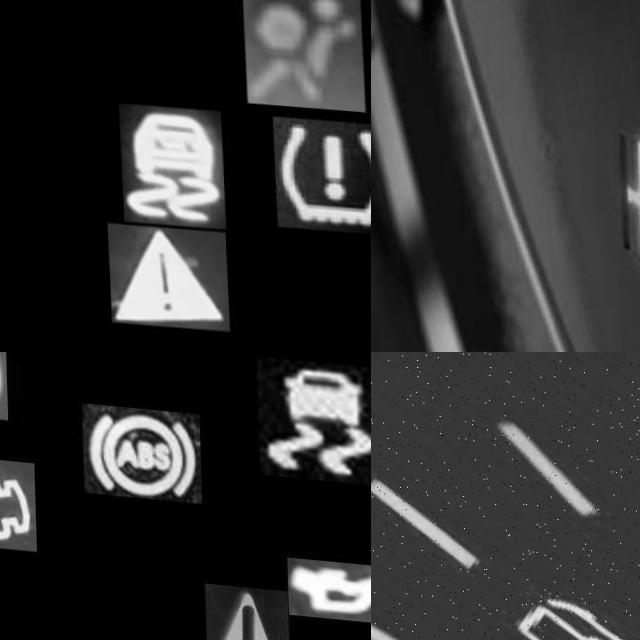Central Warning lamp: (105, 217, 228, 327), (203, 575, 289, 640)
